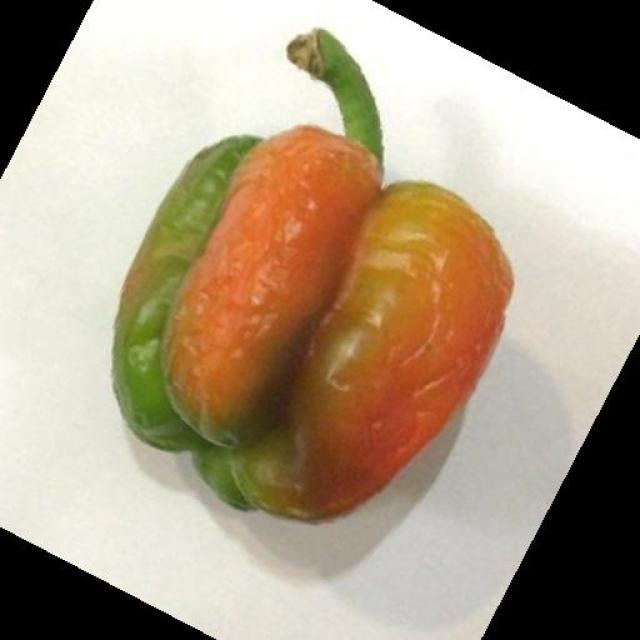Stale_Capsicum: (129, 84, 497, 525)
